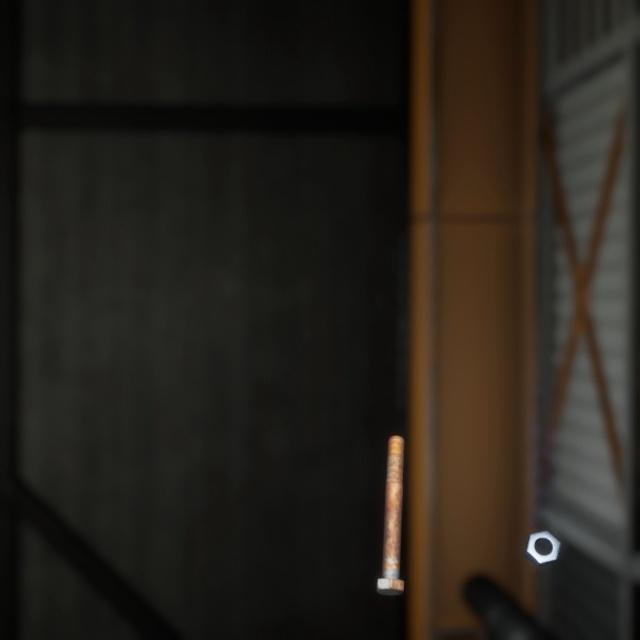bolt: (371, 411, 408, 578)
nut: (519, 503, 564, 549)
